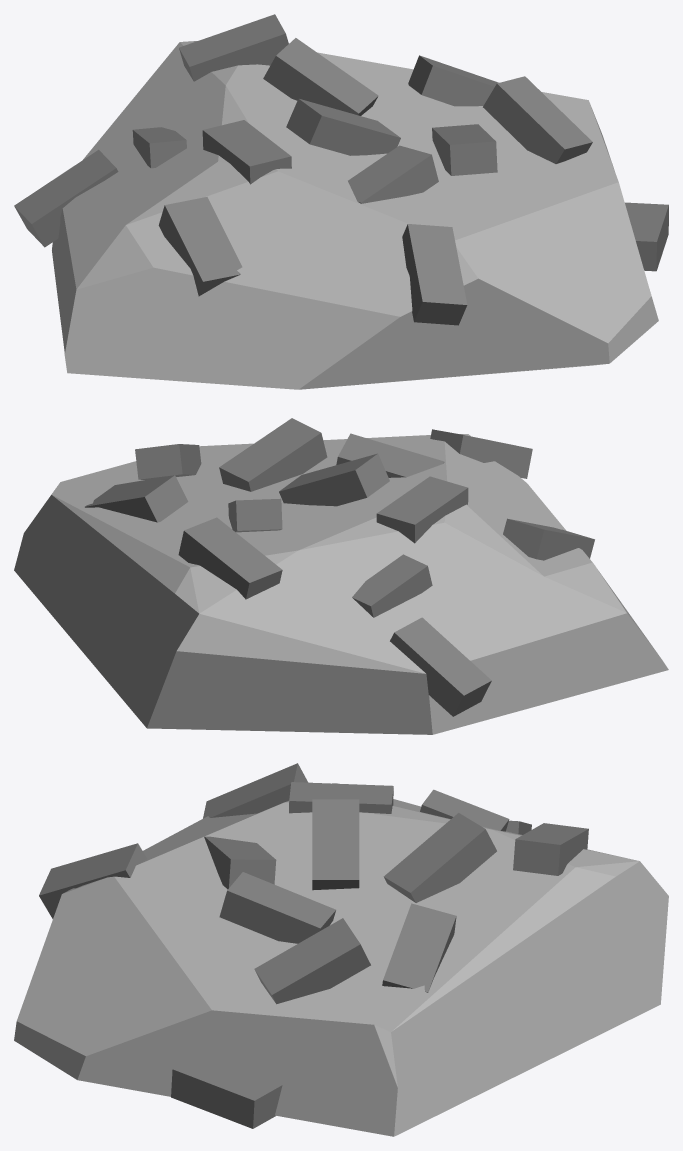
Rendered from Wh_Rubble_Grey.fbx.
The picture shows the model from 3 angles, top to bottom: view 1: azimuth 30°, elevation 25°; view 2: azimuth 150°, elevation 25°; view 3: azimuth 270°, elevation 25°; orthographic projection. The views are drawn at different scales.
Parts seen in each view (by area): view 1: Cube.904; view 2: Cube.904; view 3: Cube.904.
Boxes of the visible parts, x1,y1,x2,y2 form: Cube.904: (14, 14, 668, 389); Cube.904: (14, 418, 668, 734); Cube.904: (14, 763, 668, 1136).
Bounding box in the file's own units: 331 × 89.8 × 305.
